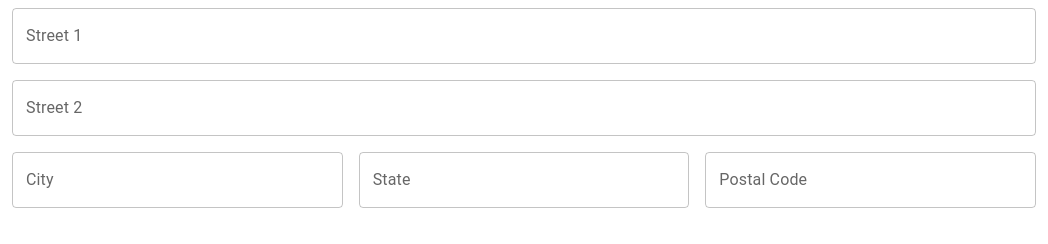
Test: AddressForm › should show an error code for an invalid PostalCode
This screenshot has width=1048, height=244.
Type "345" into the field labelled "Postal Code" at (871, 180), box [705,152,1036,208]
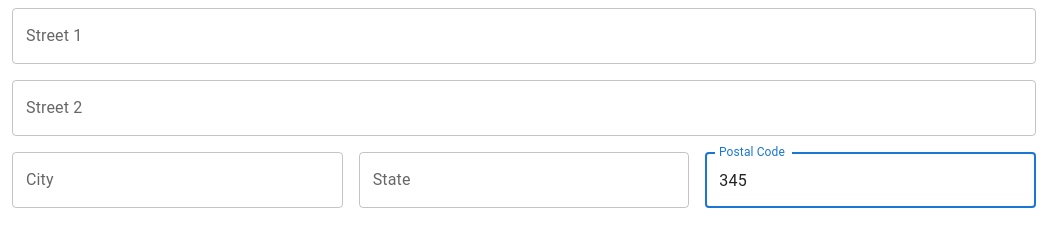
Leave the field labelled "Postal Code", box [705,152,1036,208]
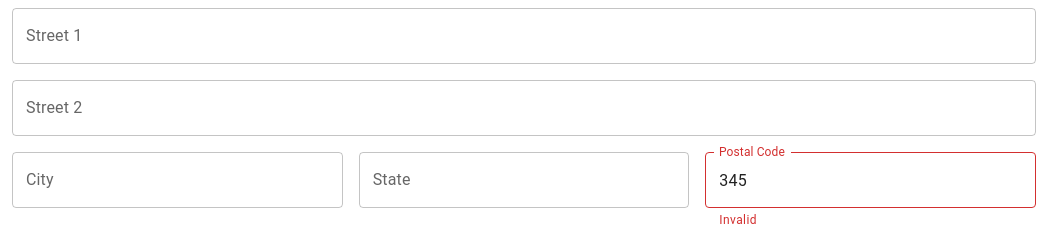
Expected: the text "Invalid" is shown, [719,213,757,227]
